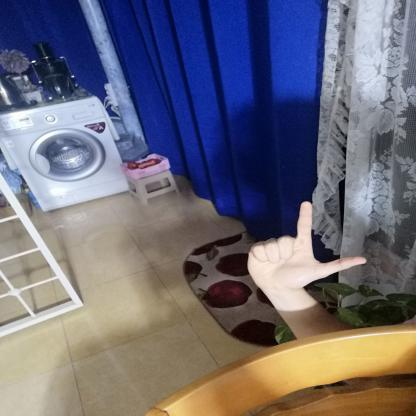LAAM: (236, 198, 380, 300)
